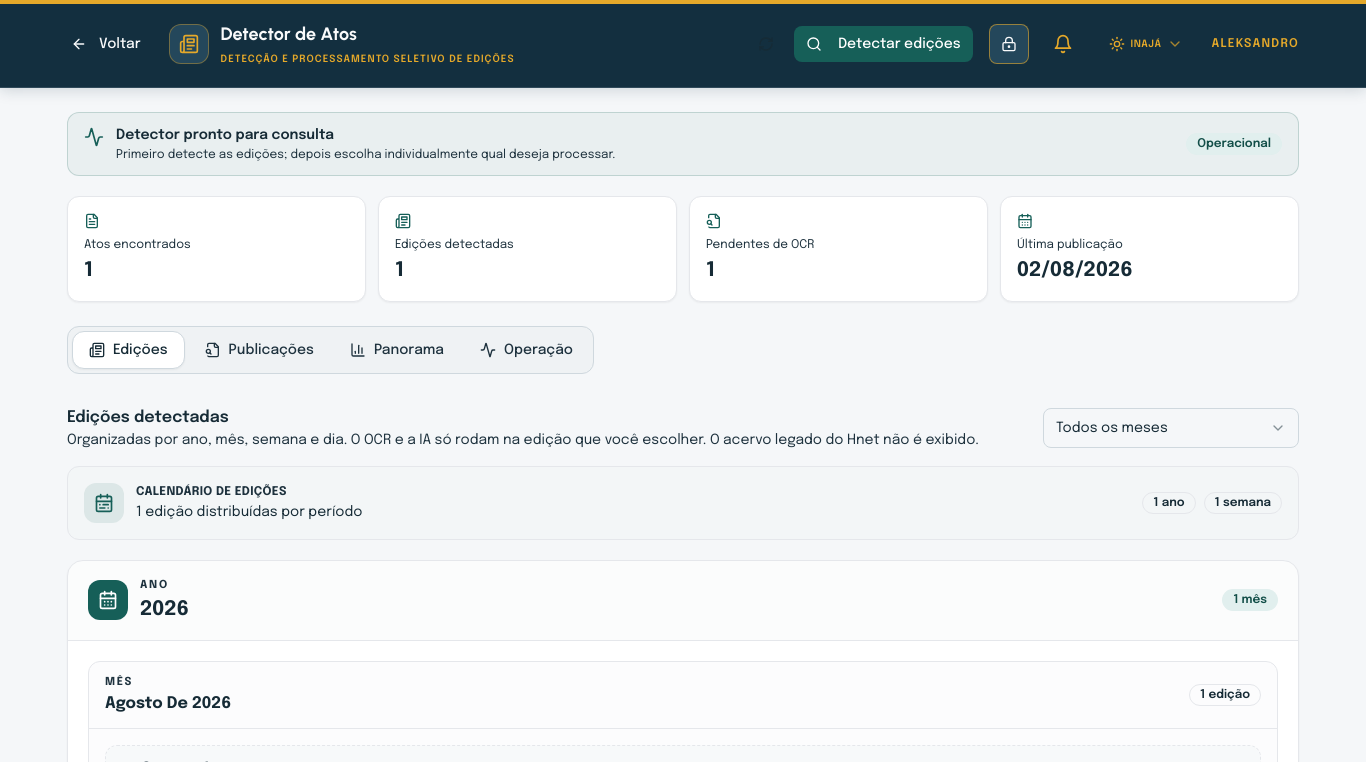
Test: DetectorAtos › exibe a publicação retornada pelo serviço
The width and height of the screenshot is (1366, 762).
Click the tab "Publicações": (259, 350) [189,331,330,369]
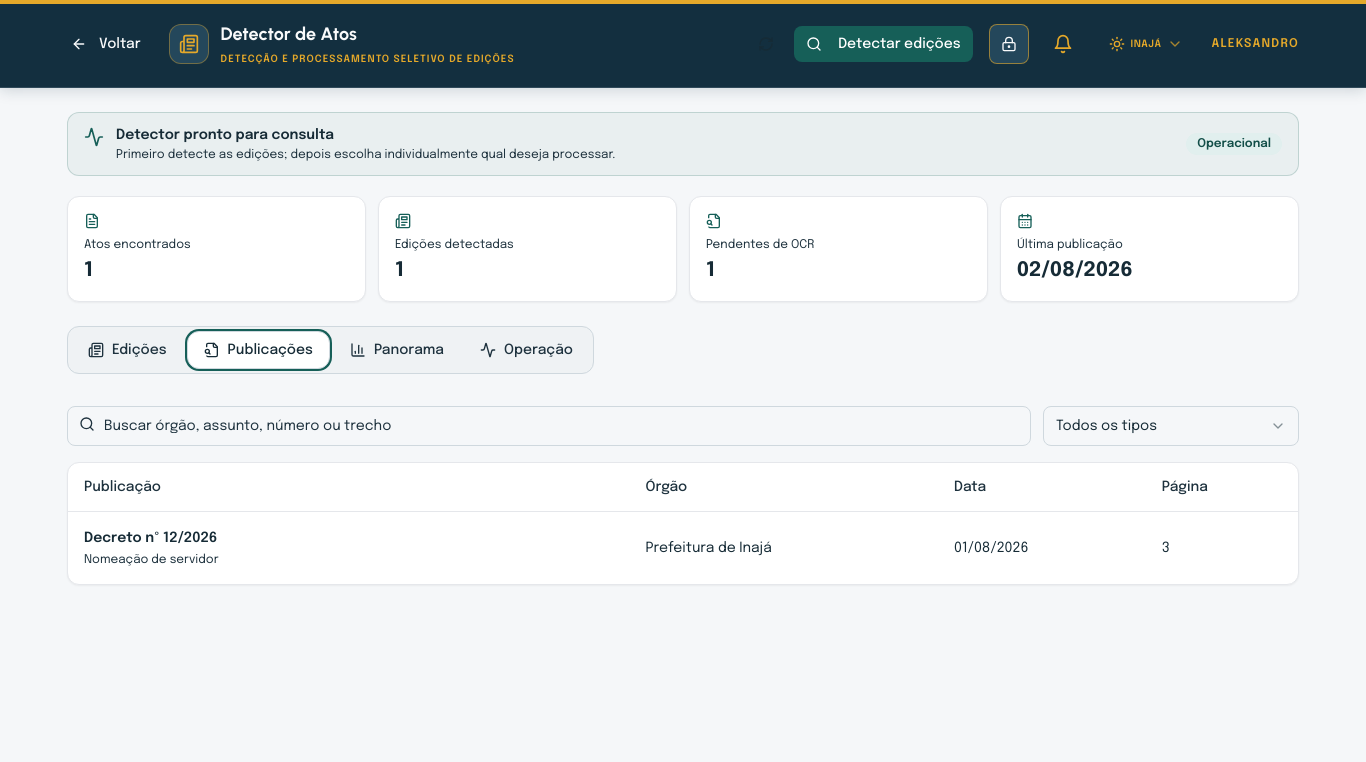
Now the text "Decreto nº 12/2026" is shown, box [84,530,217,544]
Now the text "Prefeitura de Inajá" is shown, box [630,511,938,584]
